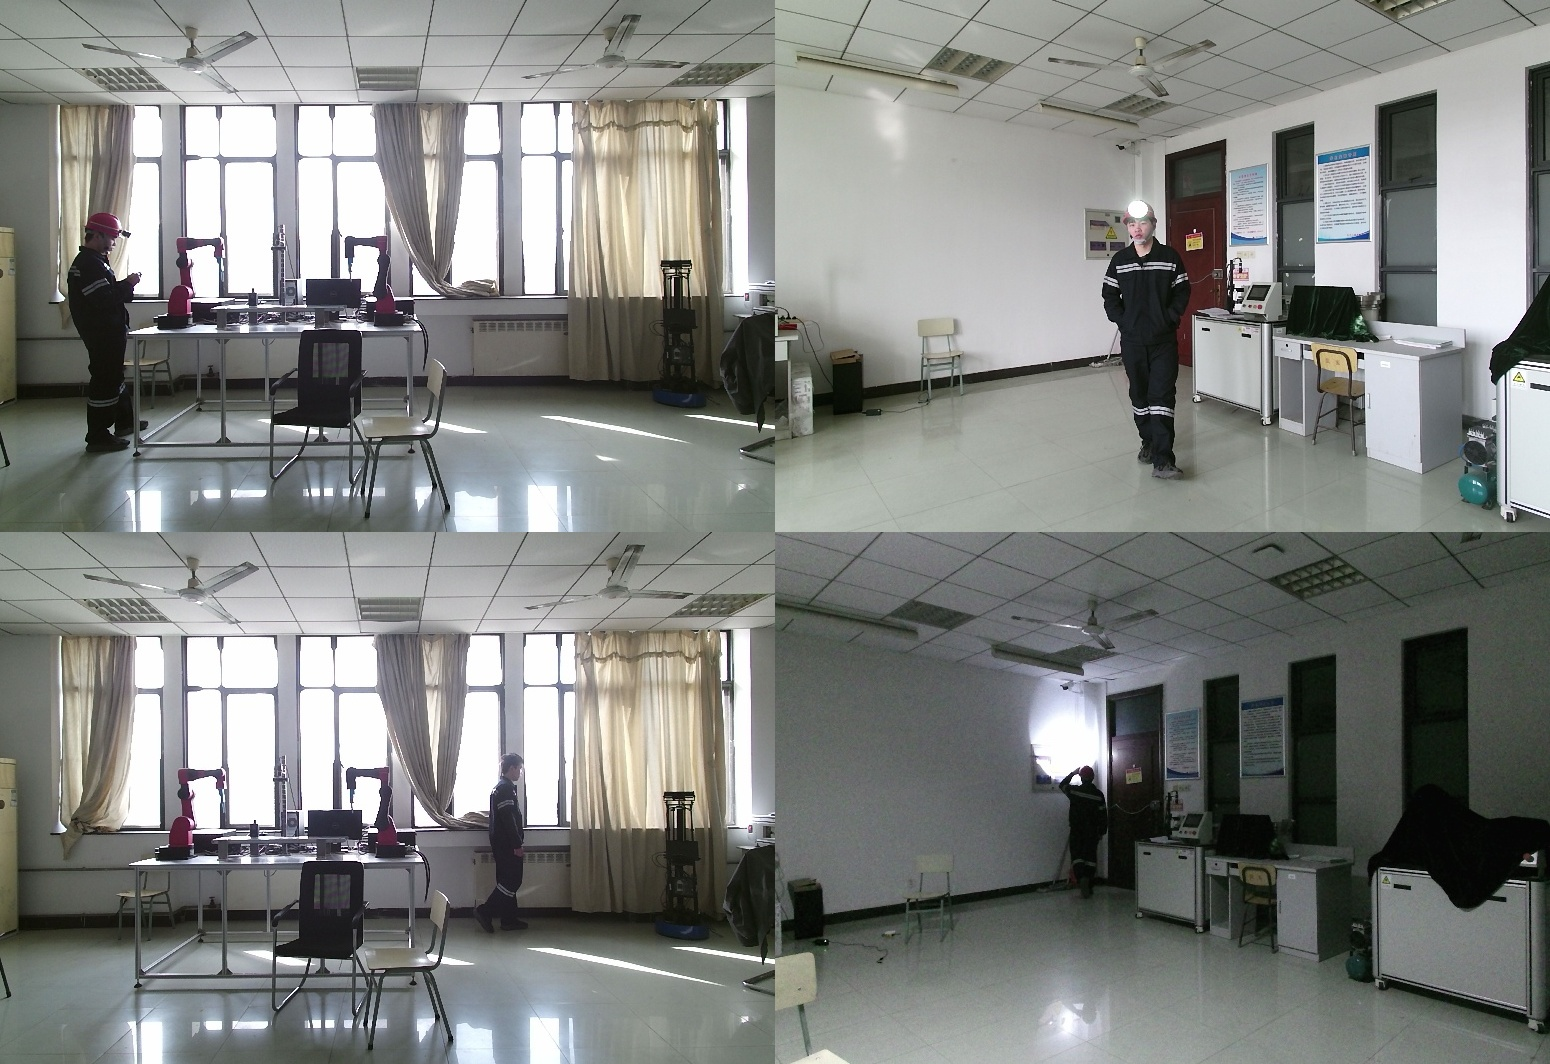person: (1100, 203, 1200, 480), (66, 213, 142, 453), (464, 752, 529, 940), (1054, 766, 1111, 901)
